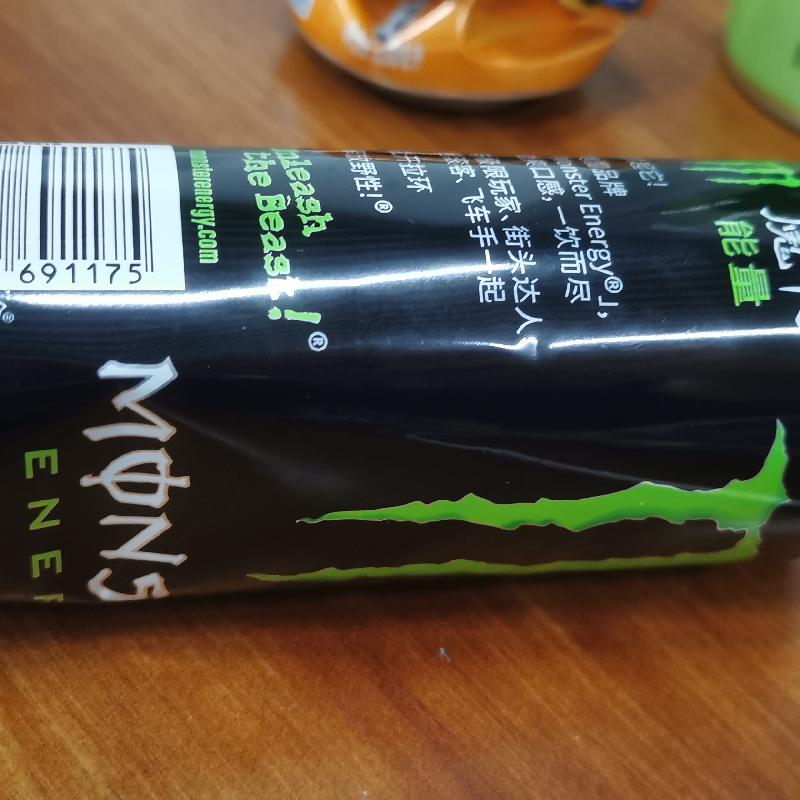cans: (3, 137, 799, 615)
